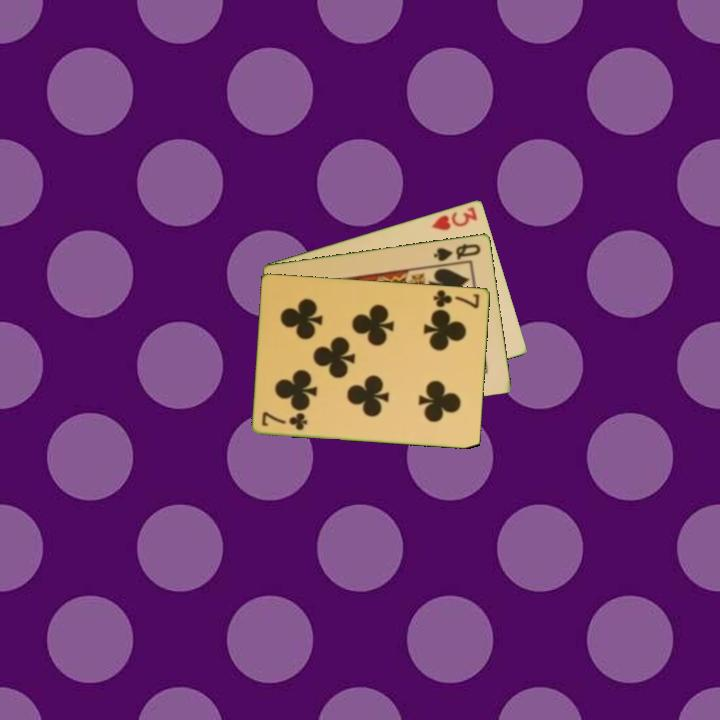3h: (428, 203, 480, 233)
7c: (259, 408, 311, 433), (431, 286, 482, 311)
Qs: (430, 239, 484, 264)
